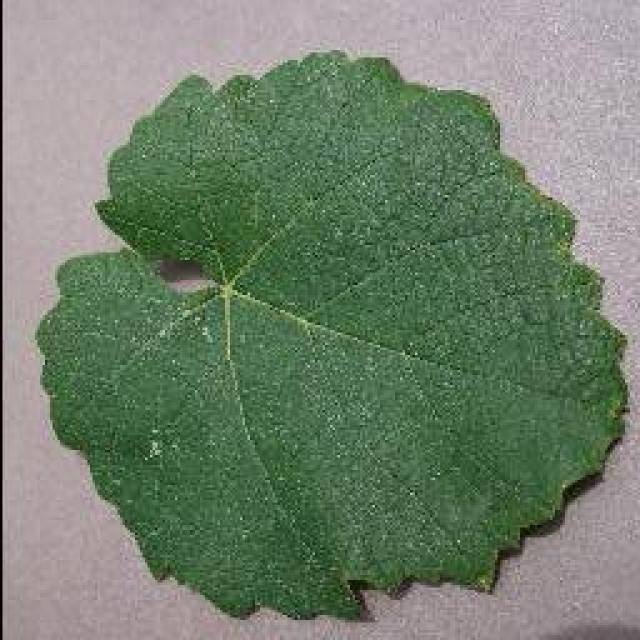Grape___healthy: (28, 49, 630, 626)
